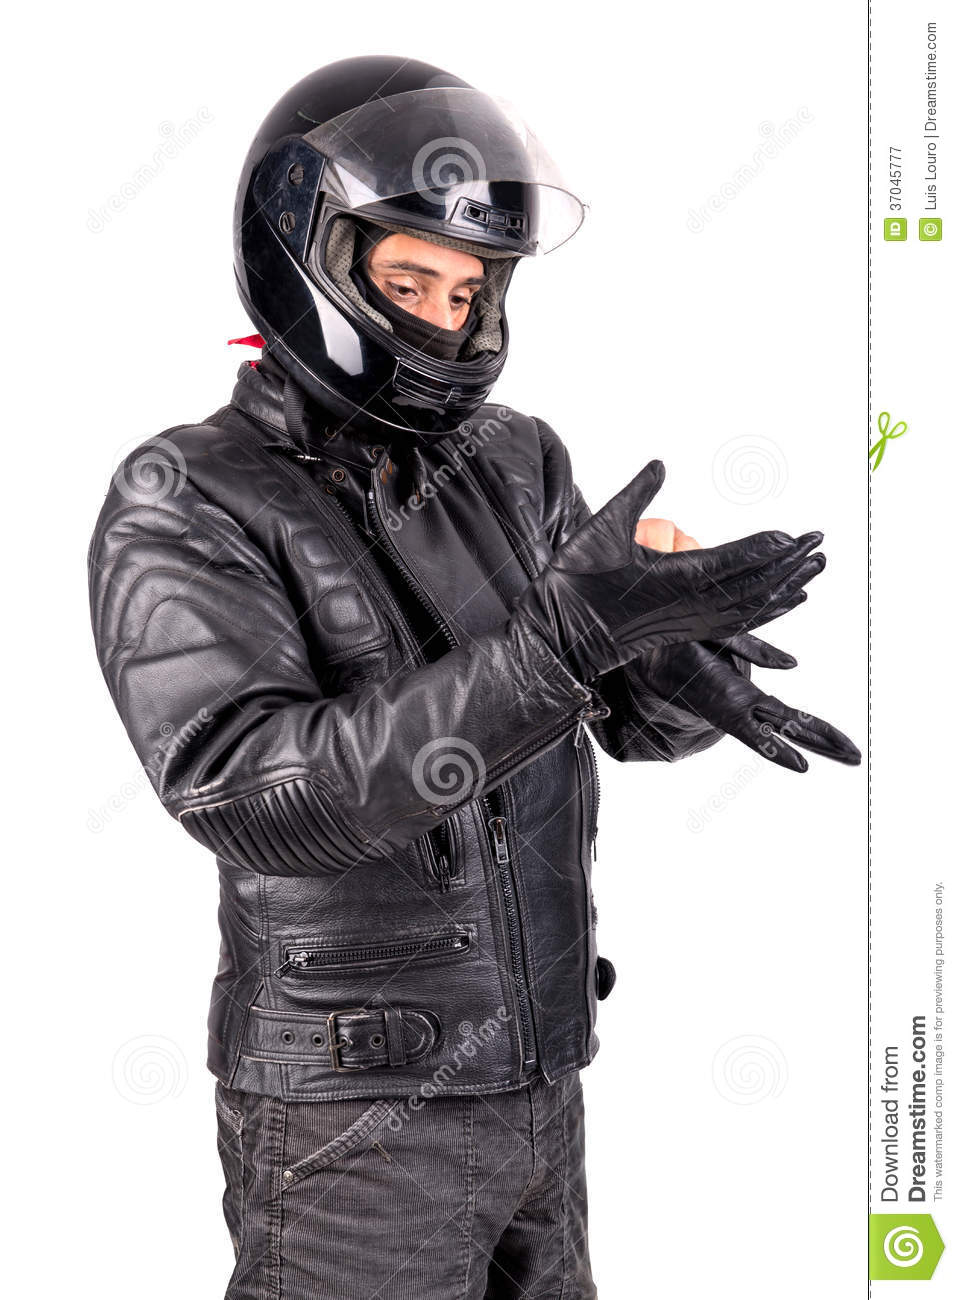helmet: (223, 55, 563, 435)
